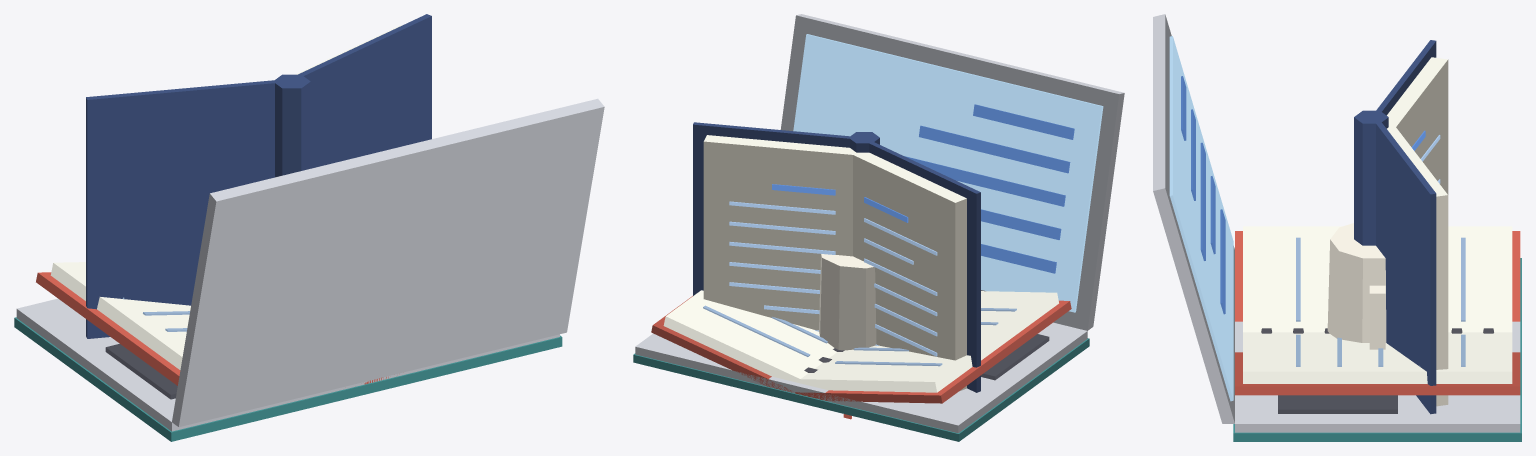
File: study_props.glb
3 views of the same model, side by side, from view 1: azimuth 30°, elevation 25°; view 2: azimuth 150°, elevation 25°; view 3: azimuth 270°, elevation 25° (orthographic). The views are drawn at different scales.
Visible parts, largest first — view 1: prop_laptop, prop_book_held, prop_book_open, prop_notebook; view 2: prop_laptop, prop_book_held, prop_book_open, prop_mug, prop_notebook; view 3: prop_book_open, prop_laptop, prop_book_held, prop_mug, prop_notebook.
Part boxes in pixels (bbox=[...]): prop_laptop: bbox=[16, 98, 604, 431]; prop_book_held: bbox=[86, 14, 431, 338]; prop_book_open: bbox=[36, 262, 388, 385]; prop_notebook: bbox=[14, 317, 562, 441]; prop_laptop: bbox=[635, 14, 1124, 433]; prop_book_held: bbox=[693, 122, 980, 419]; prop_book_open: bbox=[651, 290, 1071, 403]; prop_mug: bbox=[819, 254, 876, 350]; prop_notebook: bbox=[633, 338, 1089, 441]; prop_book_open: bbox=[1235, 226, 1520, 395]; prop_laptop: bbox=[1153, 14, 1520, 432]; prop_book_held: bbox=[1354, 40, 1448, 414]; prop_mug: bbox=[1327, 223, 1386, 349]; prop_notebook: bbox=[1233, 258, 1521, 441].
Bounding box in the file's own units: 0.262 × 0.2212 × 0.2327.
1 material, 1 textured.
